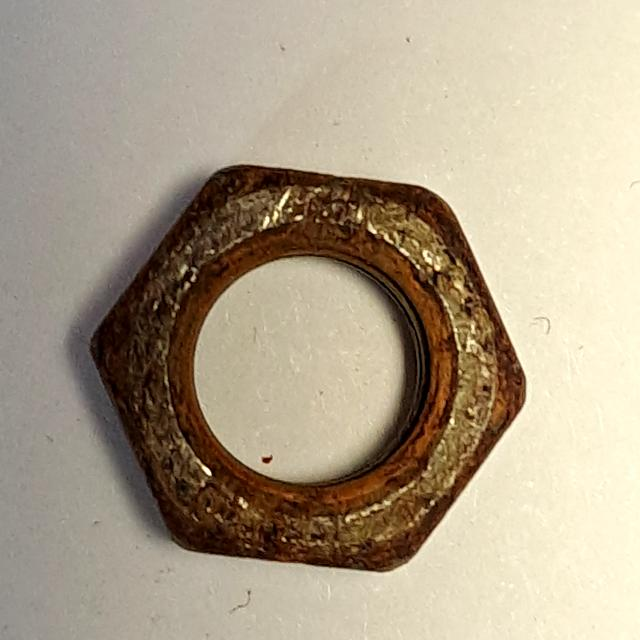Rust: (76, 154, 547, 587)
